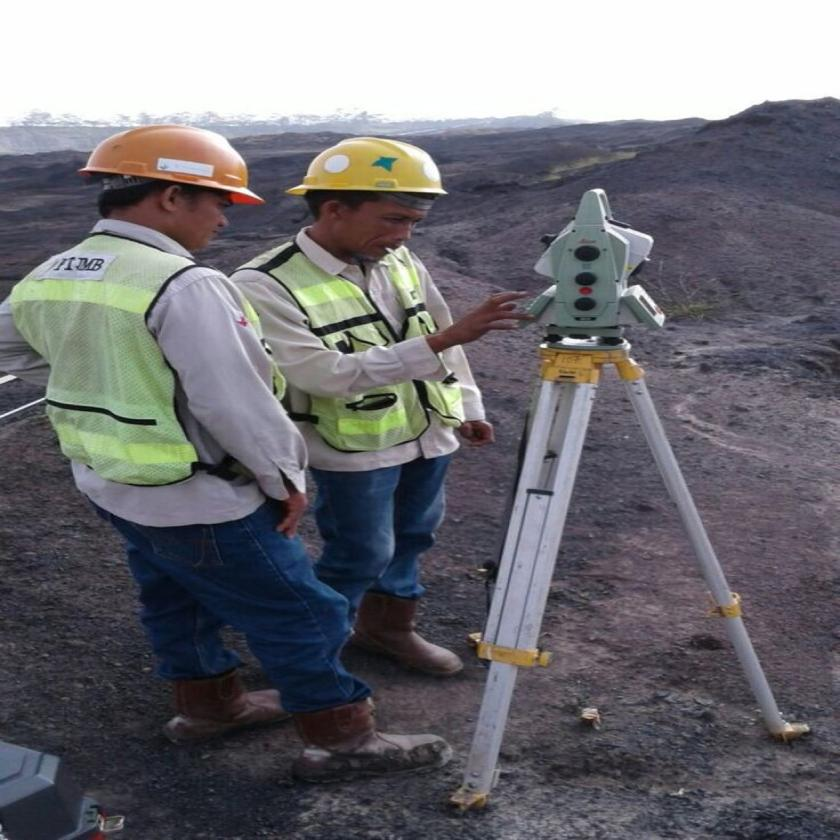Con_casco: (78, 121, 253, 259), (287, 136, 451, 268)
